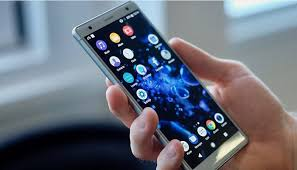sony: (68, 1, 248, 170)
